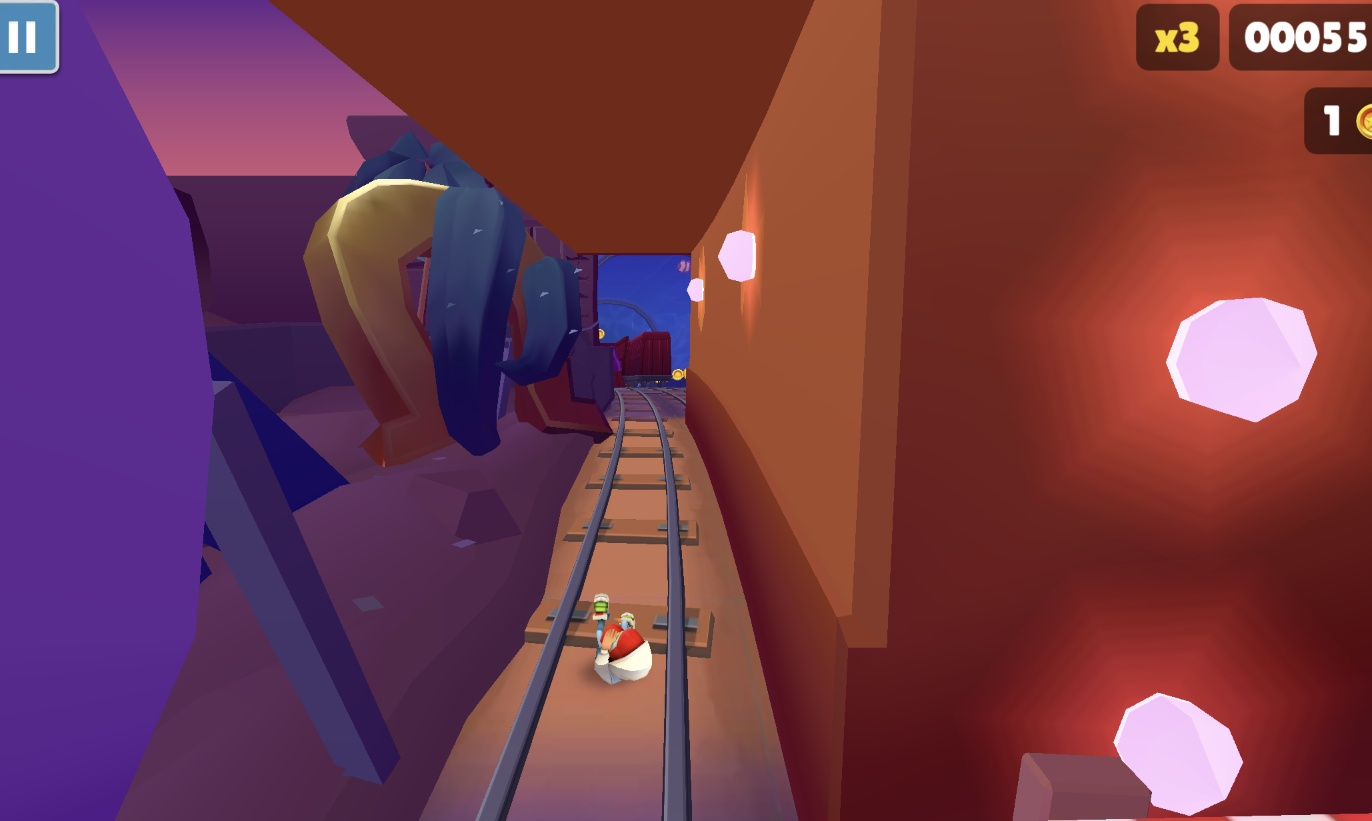ground_barrier: (1019, 757, 1318, 821)
pillar: (685, 0, 1372, 821)
train: (616, 332, 673, 387), (608, 341, 634, 384)
